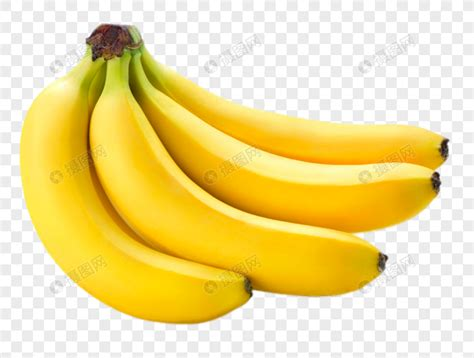banana: (86, 79, 393, 301), (15, 73, 259, 331), (131, 79, 445, 237), (146, 65, 453, 178)
